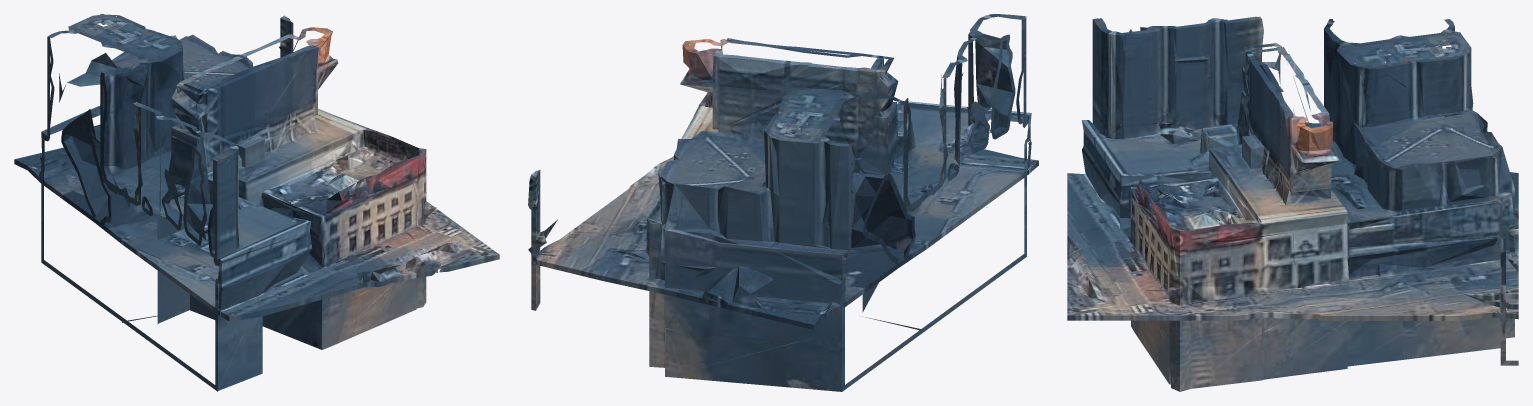
File: chunk_-3_-2.glb
3 renders of one model, left to right at view 1: azimuth 30°, elevation 25°; view 2: azimuth 150°, elevation 25°; view 3: azimuth 270°, elevation 25°, orthographic. The views are drawn at different scales.
Parts seen in each view (by area): view 1: hero-chunk; view 2: hero-chunk; view 3: hero-chunk.
Boxes of the visible parts, box(x1,y1,x2,y2) form: hero-chunk: box(14, 14, 499, 391); hero-chunk: box(528, 14, 1038, 391); hero-chunk: box(1067, 16, 1518, 391).
Bounding box in the file's own units: 56.96 × 46.52 × 76.32.
Materials: 2 (2 with a texture image).
